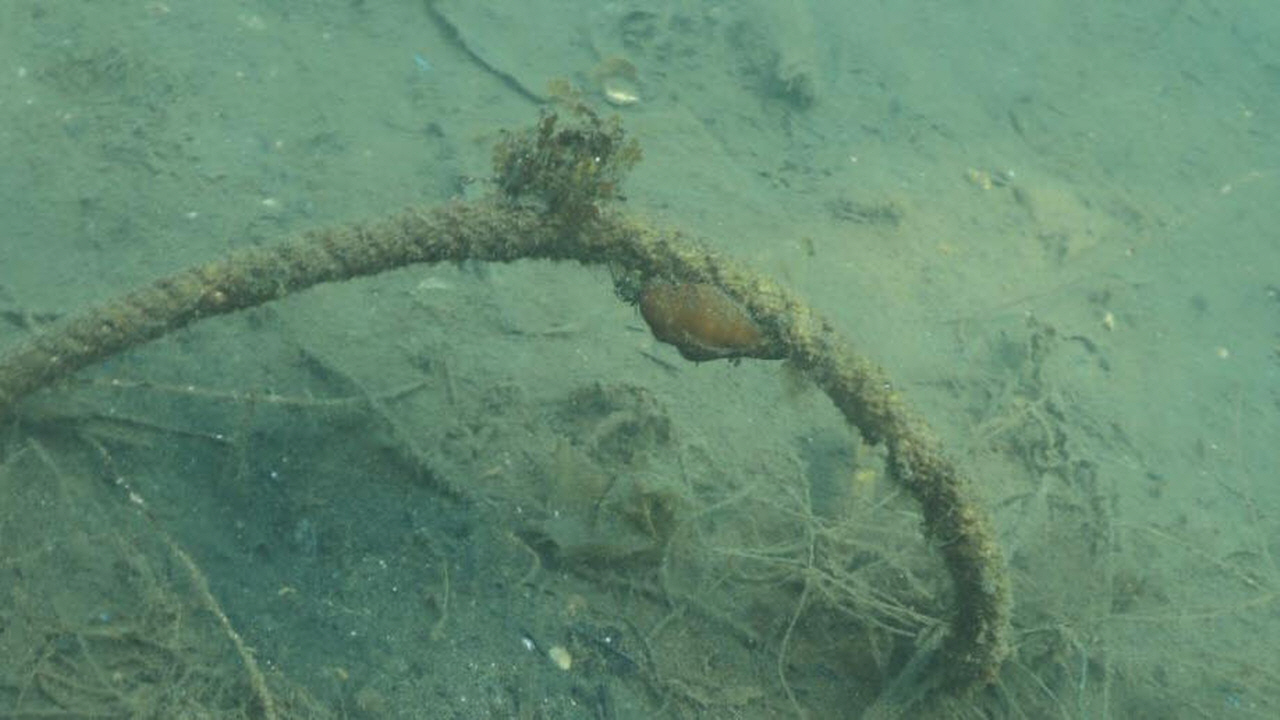rope: (0, 192, 1014, 720)
